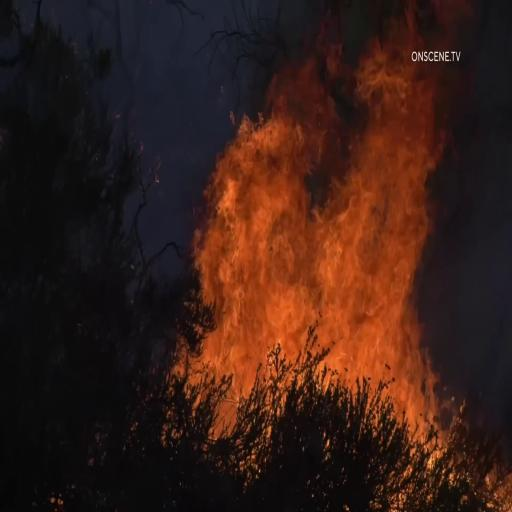fire: (217, 30, 435, 401)
